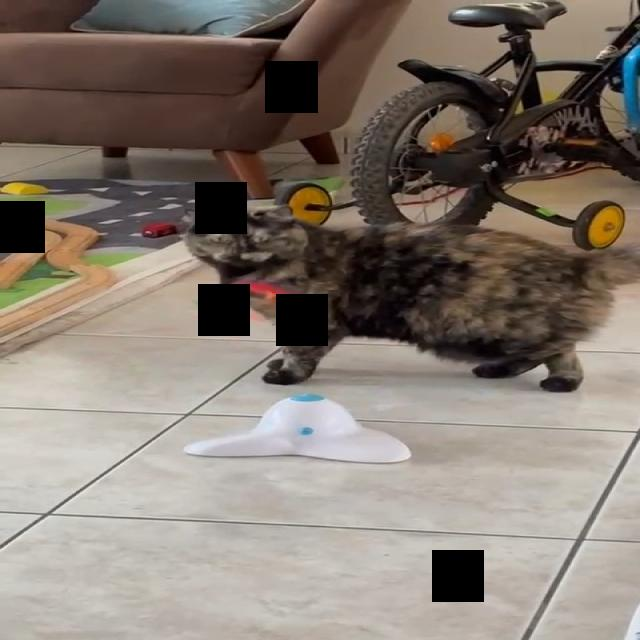authorized: (178, 202, 638, 392)
